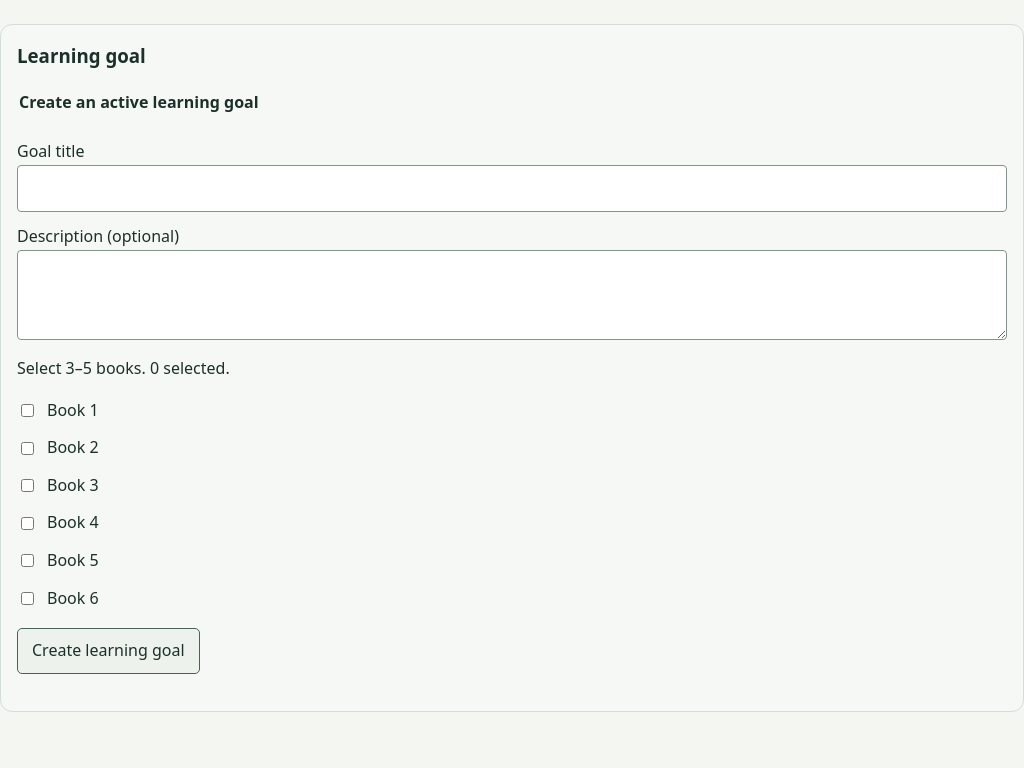
Test case: learning goals UI › prevents selecting a sixth book
The width and height of the screenshot is (1024, 768).
Expected: the field labelled "Goal title" is shown, [17,165,1007,212]
Click the checkbox labelled "Book 1" at {"x": 28, "y": 410}, box [21,404,34,417]
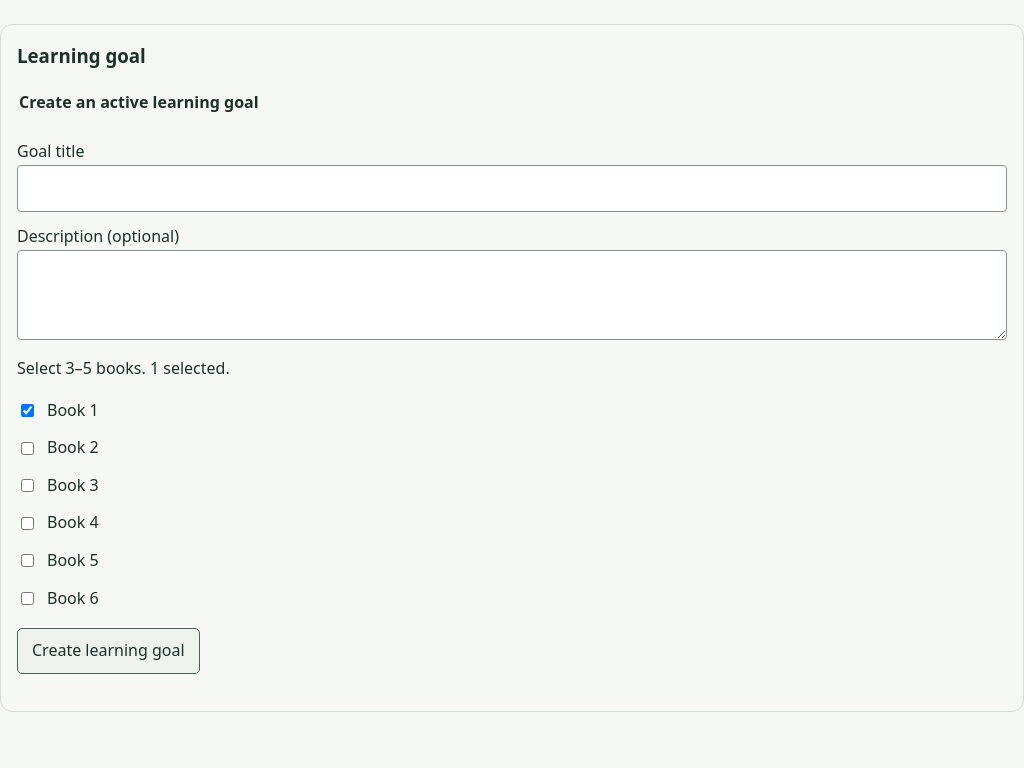
Click the checkbox labelled "Book 2" at {"x": 28, "y": 448}, box [21,442,34,454]
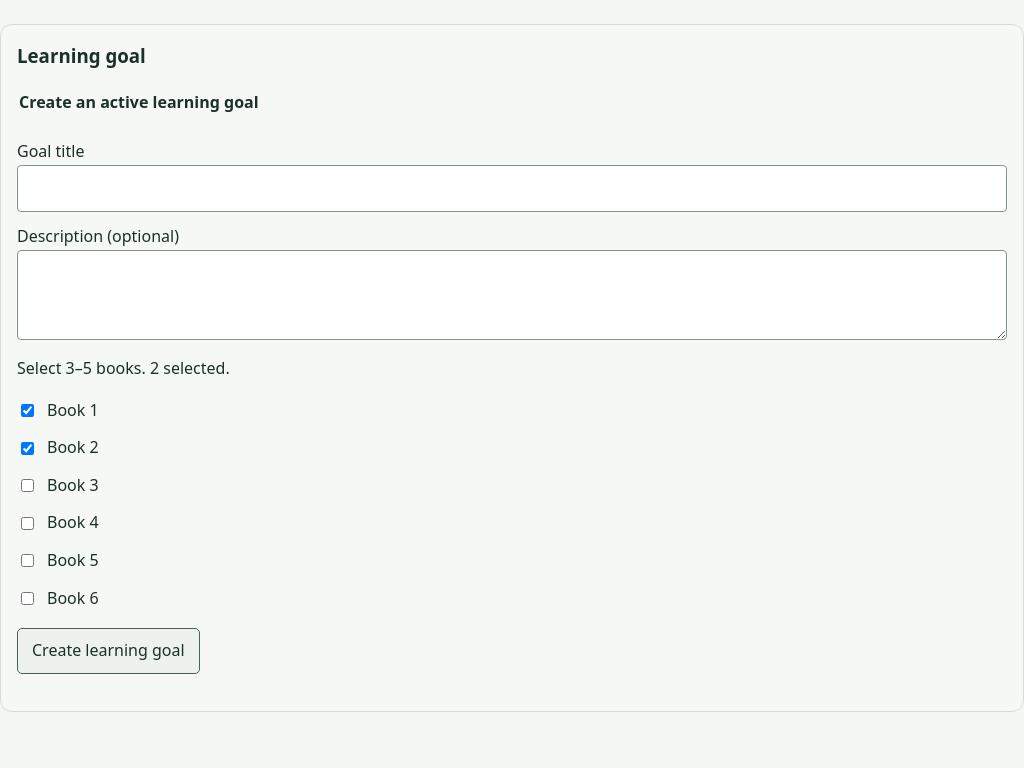
Click the checkbox labelled "Book 3" at {"x": 28, "y": 486}, box [21,479,34,492]
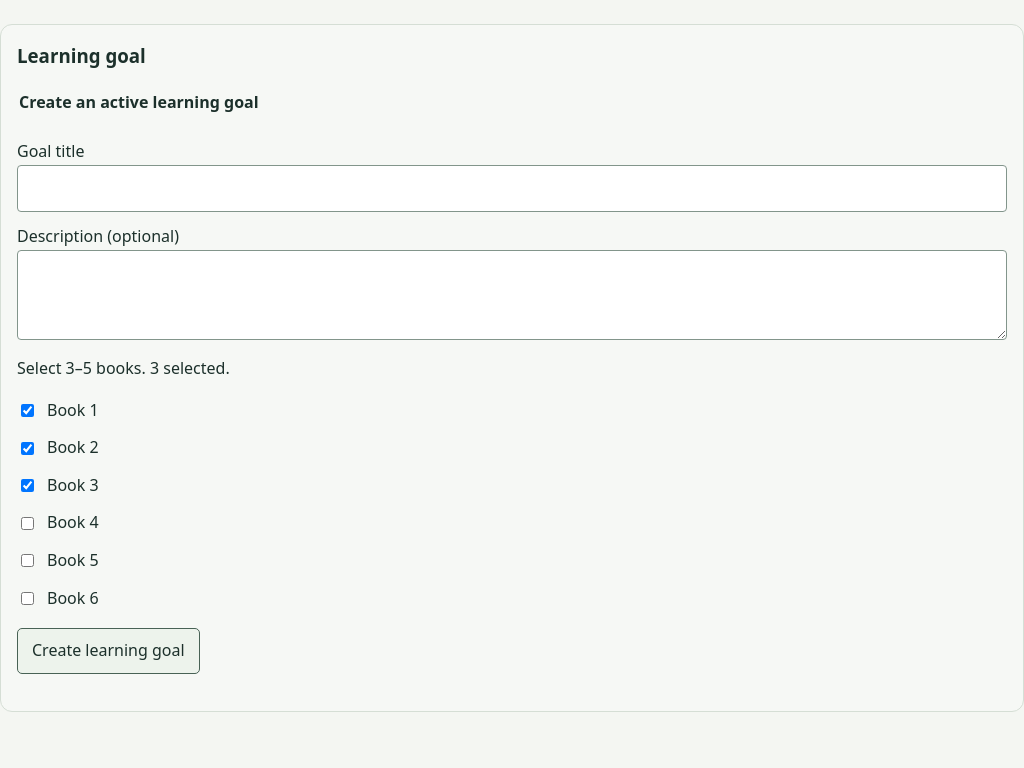
Click the checkbox labelled "Book 4" at {"x": 28, "y": 523}, box [21,517,34,530]
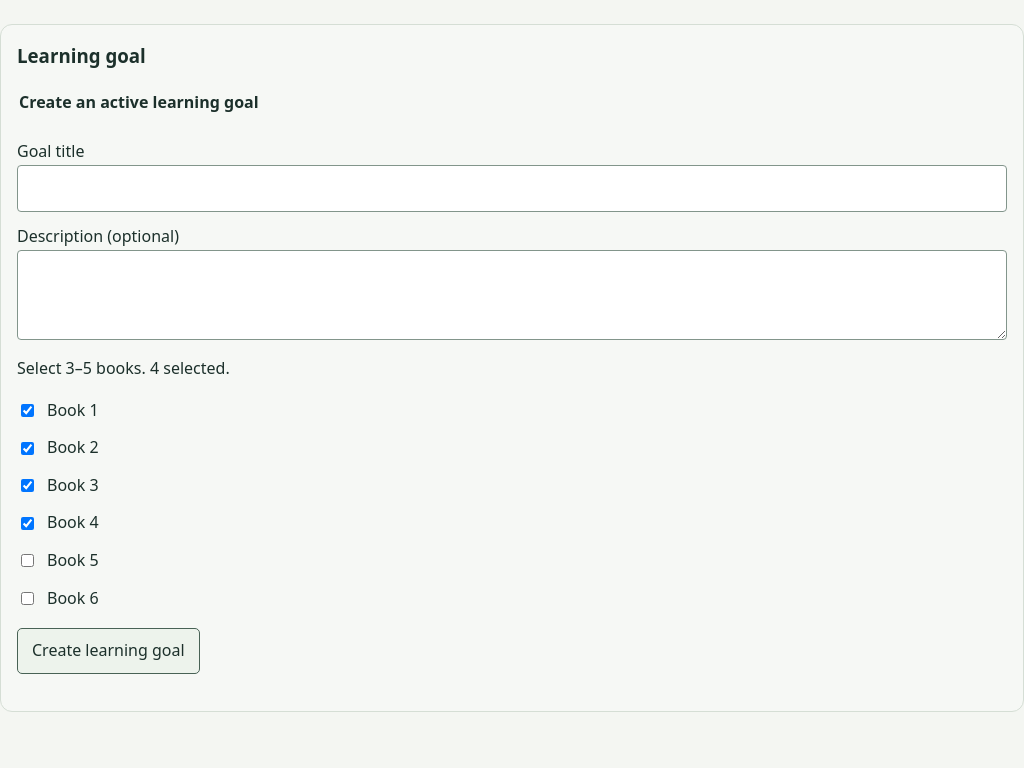
Click the checkbox labelled "Book 5" at {"x": 28, "y": 561}, box [21,554,34,567]
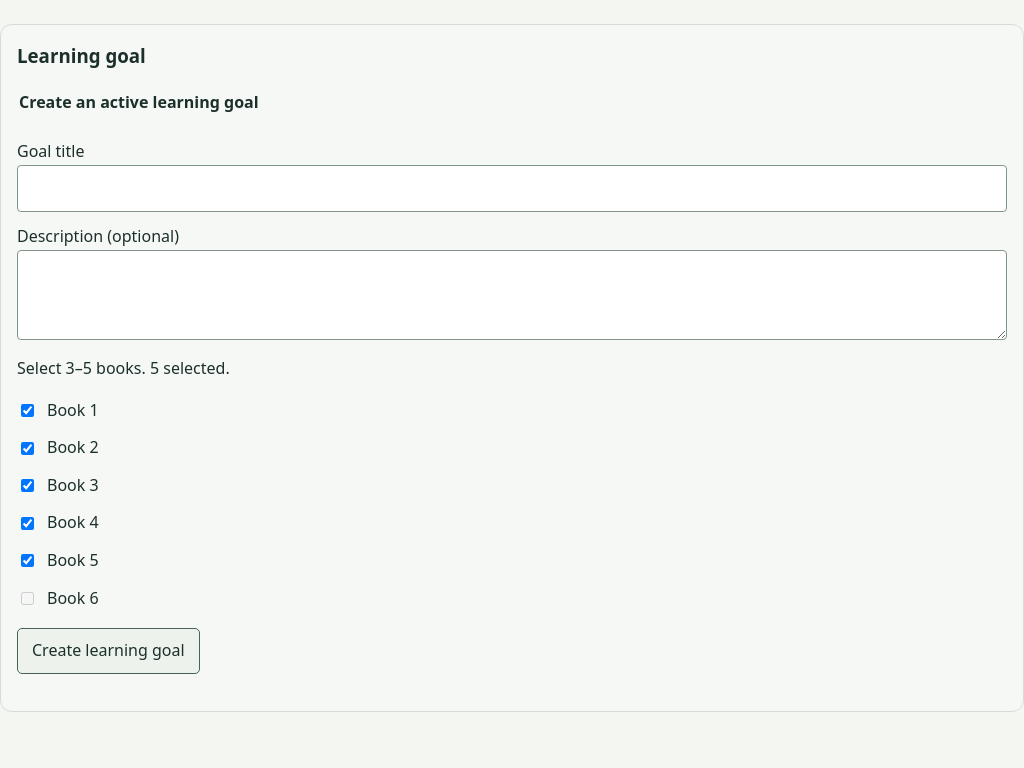
Expected: the text "Select 3–5 books. 5 selected." is shown, [17,357,230,379]
